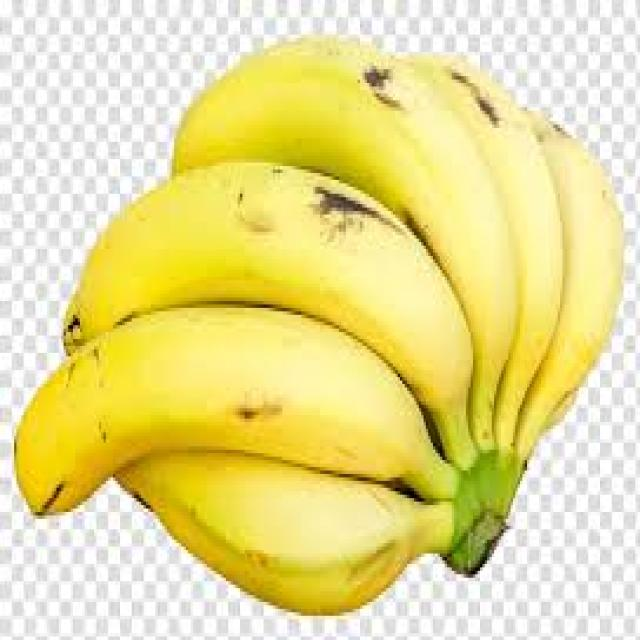Banana: (174, 39, 535, 466), (65, 162, 472, 442), (16, 307, 458, 512), (118, 452, 452, 613), (452, 70, 562, 448), (514, 114, 624, 459)
